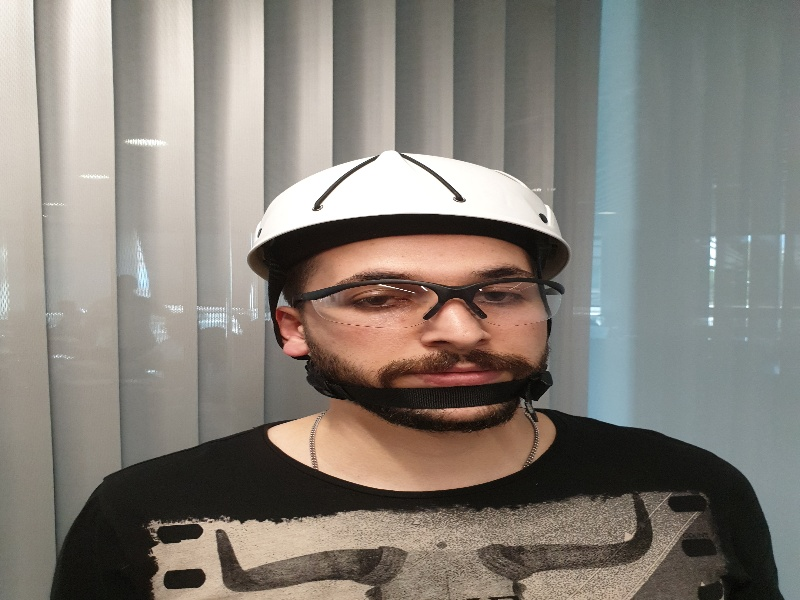Baret: (250, 150, 568, 253)
Gozluk: (293, 277, 569, 327)
